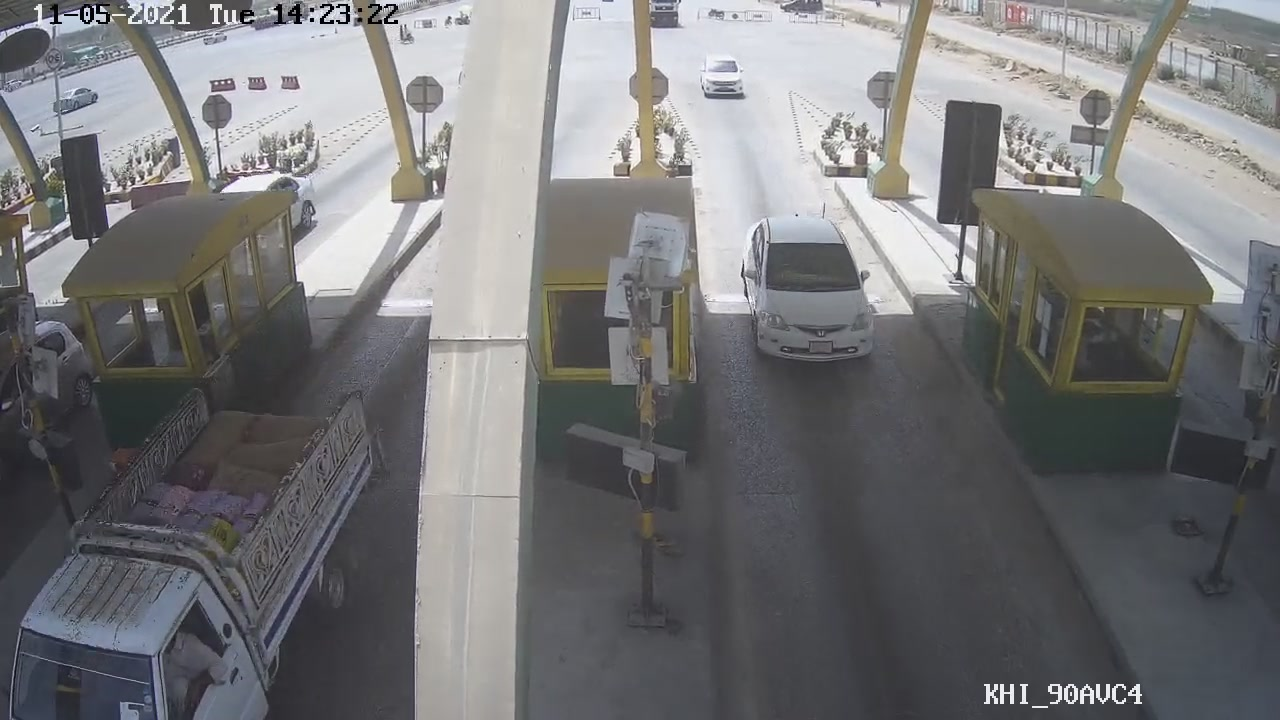F1: (736, 215, 880, 364)
